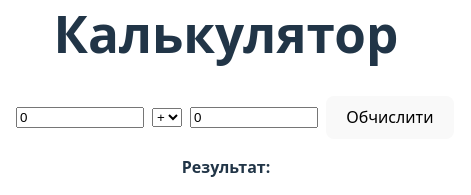
Calculator UI › adds two numbers
Replace the text in the number field named "Перше число" with "2": (80, 118) [16, 107, 144, 128]
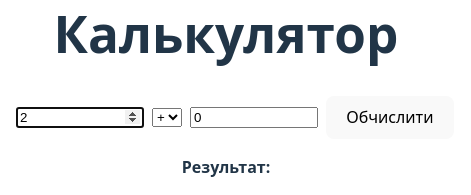
Replace the text in the number field named "Друге число" with "3": (254, 118) [190, 107, 318, 128]
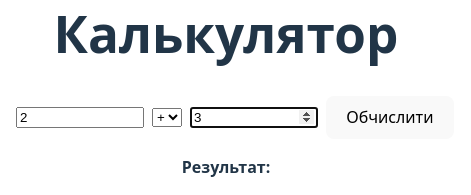
Click the button "Обчислити": (390, 118) [326, 96, 454, 139]
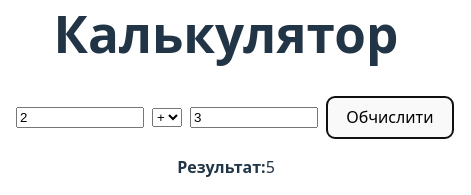
Expected: the text "5" is shown, [266, 156, 275, 178]
